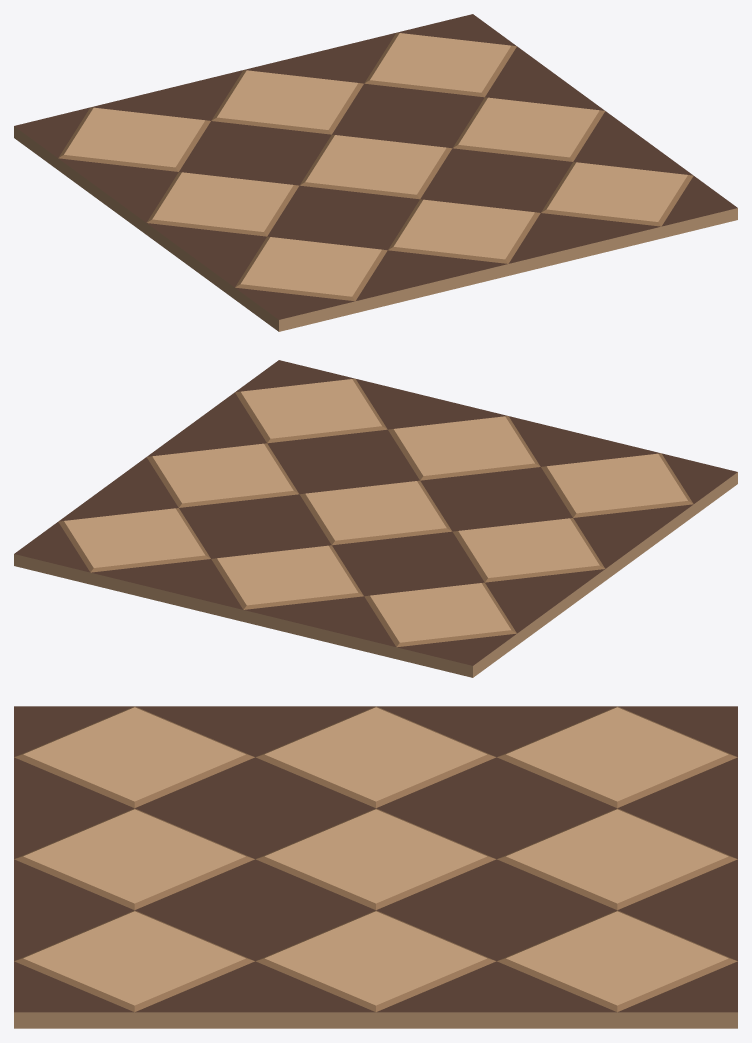
File: Floor_Tiles_2M_02.glb
3 views of the same model, one above another, from view 1: azimuth 30°, elevation 25°; view 2: azimuth 150°, elevation 25°; view 3: azimuth 270°, elevation 25° (orthographic). The views are drawn at different scales.
Parts seen in each view (by area): view 1: Floor_Tiles_2M_02; view 2: Floor_Tiles_2M_02; view 3: Floor_Tiles_2M_02.
Boxes of the visible parts, bbox=[...] form: Floor_Tiles_2M_02: bbox=[14, 14, 737, 331]; Floor_Tiles_2M_02: bbox=[14, 360, 737, 677]; Floor_Tiles_2M_02: bbox=[14, 706, 737, 1028].
Size of what is drawn, in the model's own units: 2 by 0.0588 by 2.
Materials: 1 (1 with a texture image).
